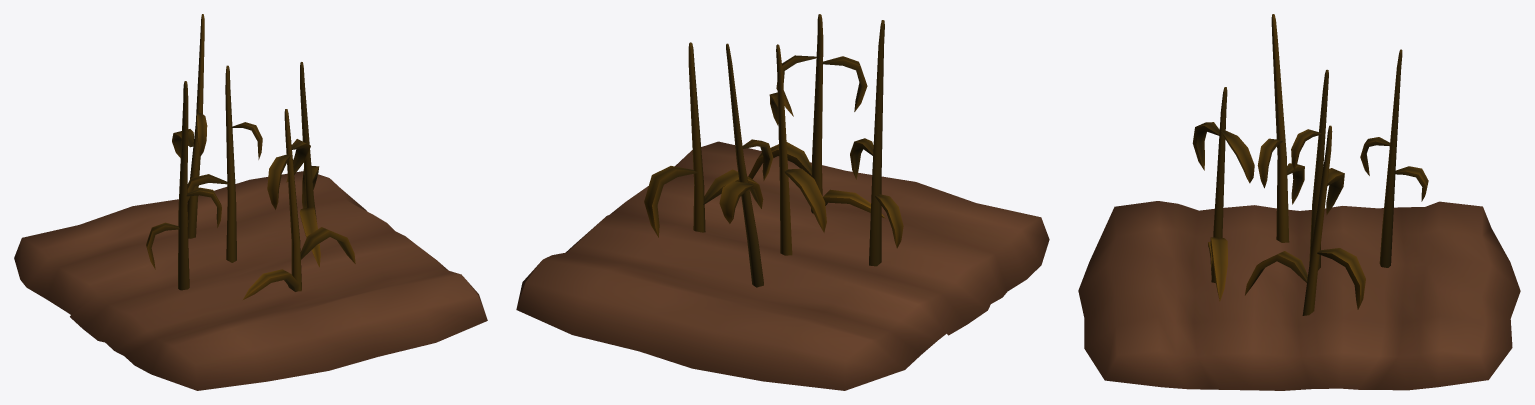
File: SM_PlantSoil_Wheat_Dead.fbx
The picture shows the model from 3 angles, left to right: view 1: azimuth 30°, elevation 25°; view 2: azimuth 150°, elevation 25°; view 3: azimuth 270°, elevation 25°; orthographic projection. The views are drawn at different scales.
Parts seen in each view (by area): view 1: SM_PlantSoil_Wheat_Dead; view 2: SM_PlantSoil_Wheat_Dead; view 3: SM_PlantSoil_Wheat_Dead.
Part boxes in pixels (x1,y1,x2,y2): SM_PlantSoil_Wheat_Dead: (14,14,487,390); SM_PlantSoil_Wheat_Dead: (516,14,1049,390); SM_PlantSoil_Wheat_Dead: (1078,14,1520,390).
Bounding box in the file's own units: 96.14 × 66.02 × 103.
